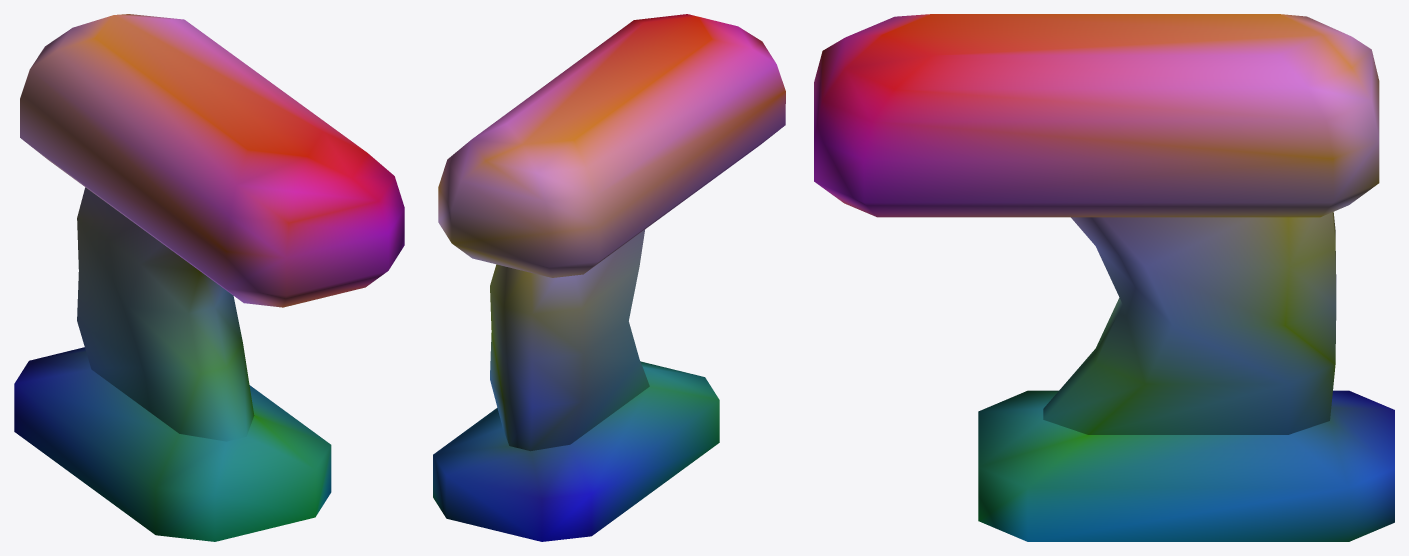
File: SM_DockPeg.fbx
3 renders of one model, left to right at view 1: azimuth 30°, elevation 25°; view 2: azimuth 150°, elevation 25°; view 3: azimuth 270°, elevation 25°, orthographic. The views are drawn at different scales.
Visible parts, largest first — view 1: SM_DockPeg; view 2: SM_DockPeg; view 3: SM_DockPeg.
Boxes of the visible parts, x1,y1,x2,y2 form: SM_DockPeg: (14, 14, 404, 541); SM_DockPeg: (433, 14, 785, 541); SM_DockPeg: (814, 14, 1394, 541).
Size of the model in its own units: 0.1043 by 0.2258 by 0.2592.
